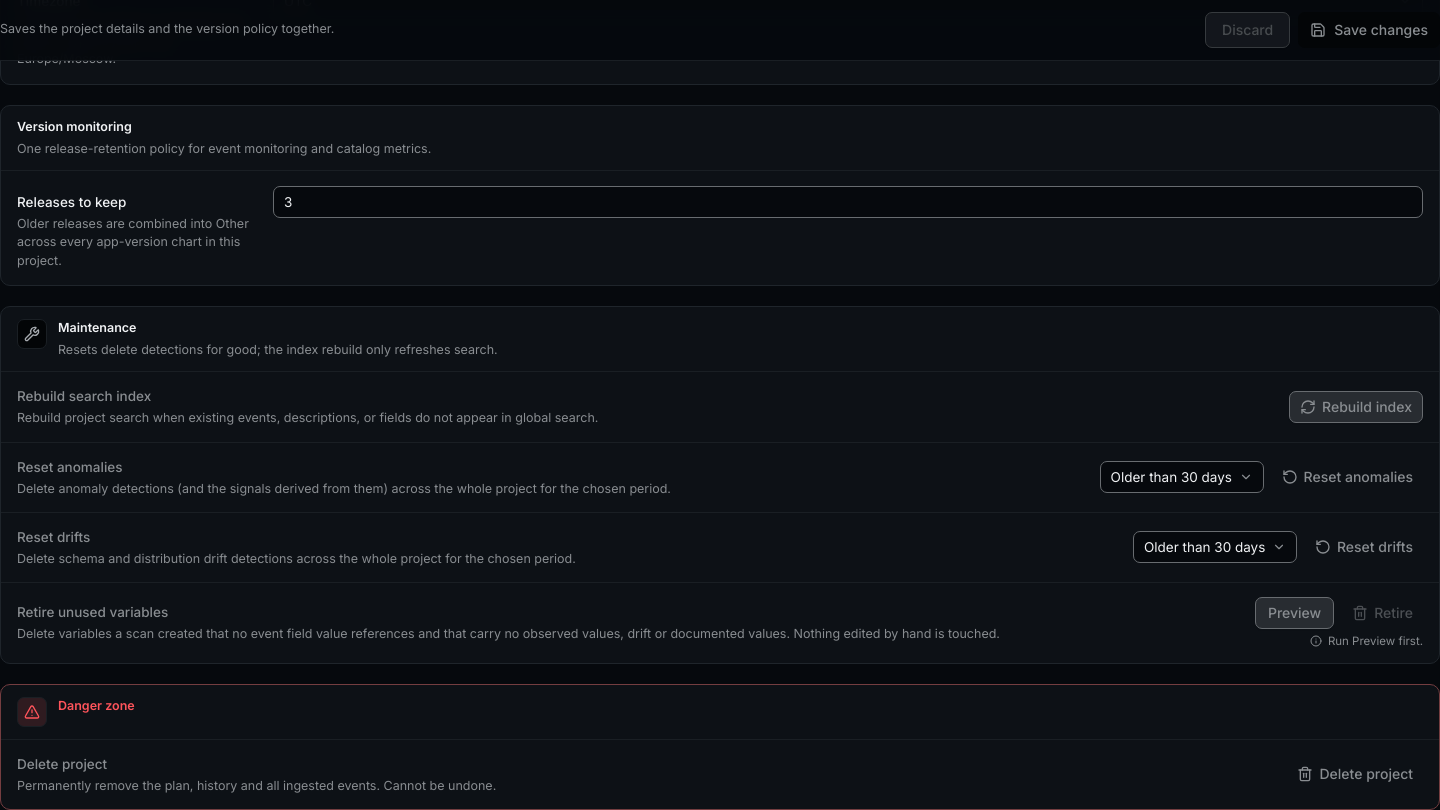
Test case: ProjectGeneralSection — #207 › asks for the slug before deleting and shows a refusal in place (WS-9, WS-10)
(page scrolled)
Click the button "Delete project" at (1355, 774), box [1288, 758, 1423, 790]
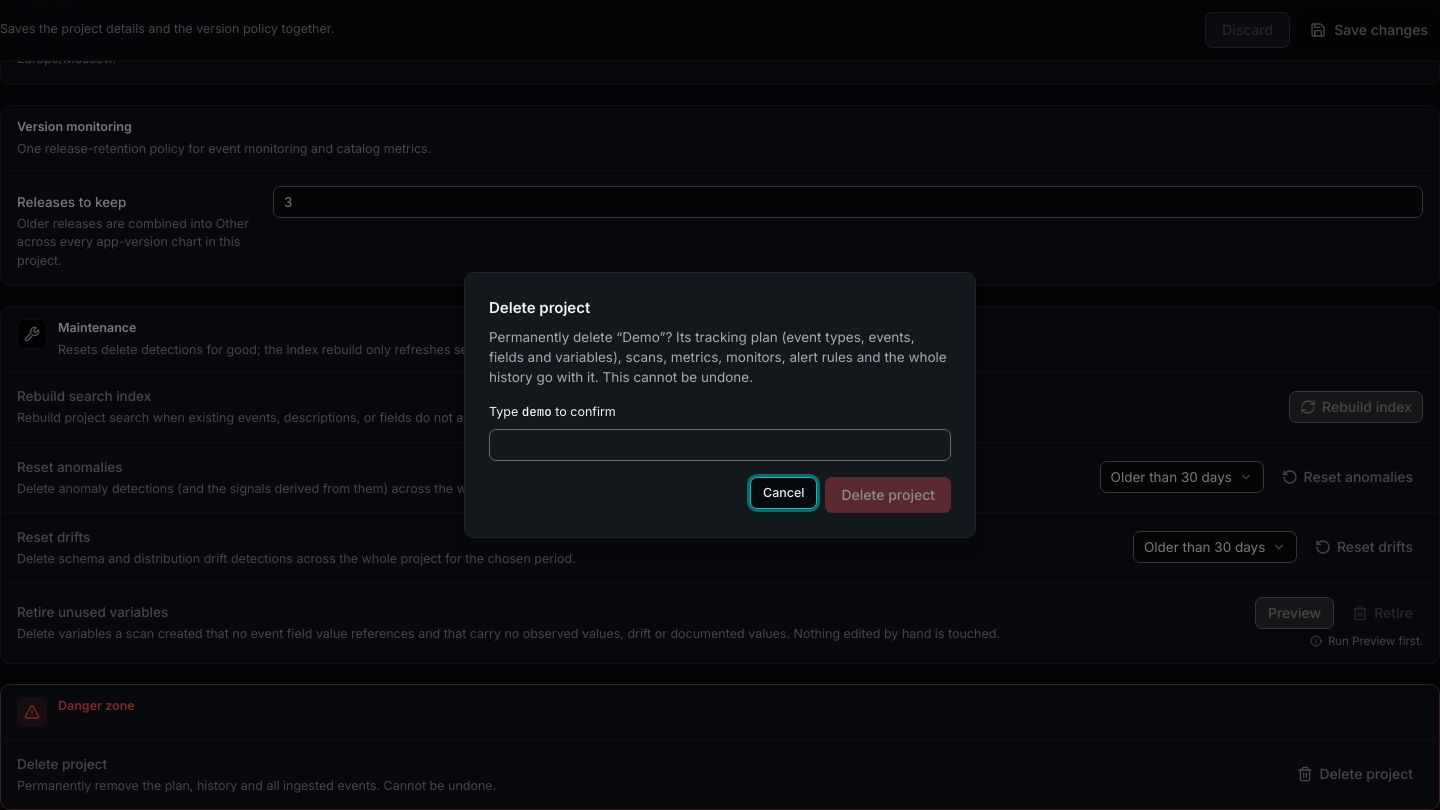
Expected: the button "Delete project" is disabled, [826, 477, 951, 513]
Type "demo" into the field labelled "Type demo to confirm" at (720, 445), box [489, 429, 951, 461]
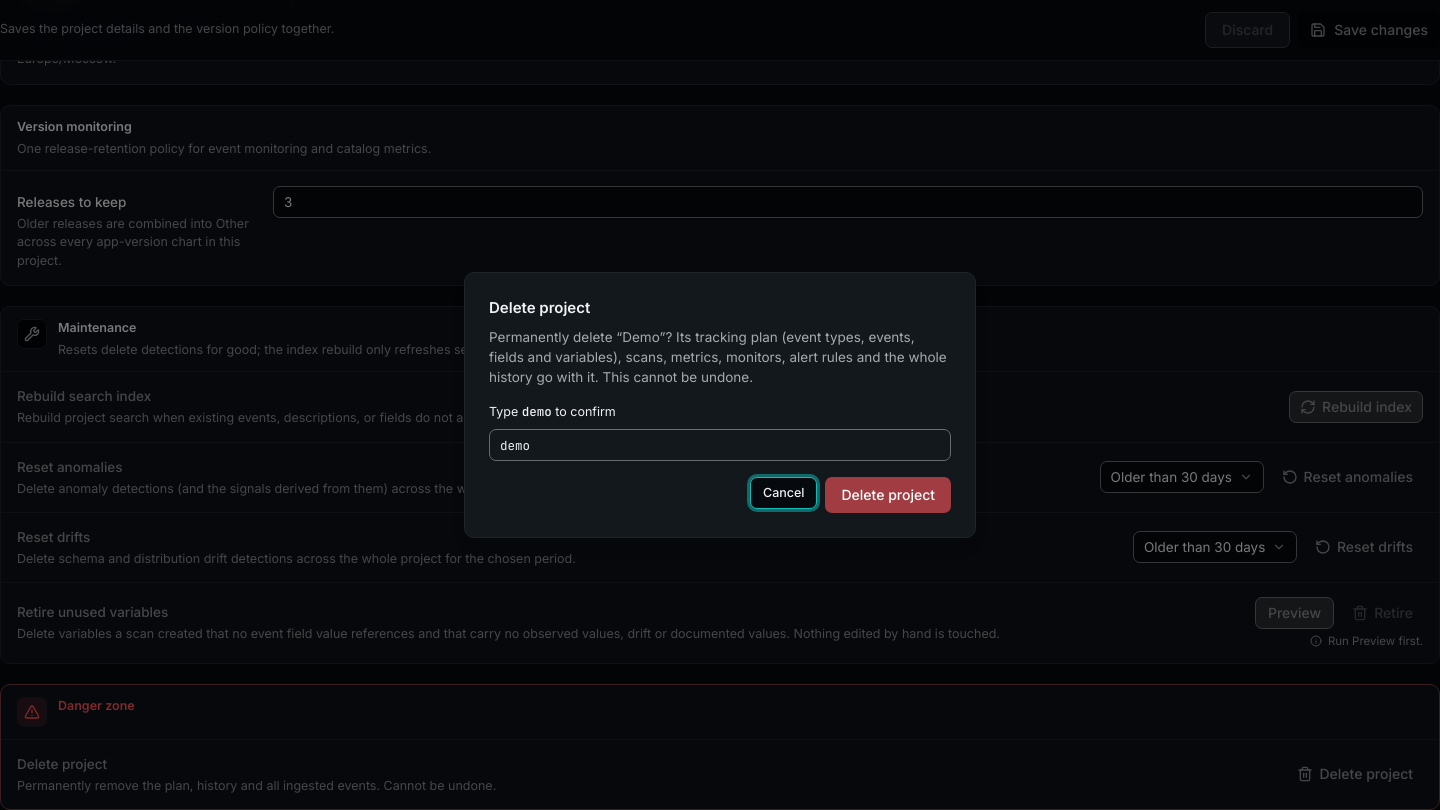
Click the button "Delete project" at (888, 495), box [826, 477, 951, 513]
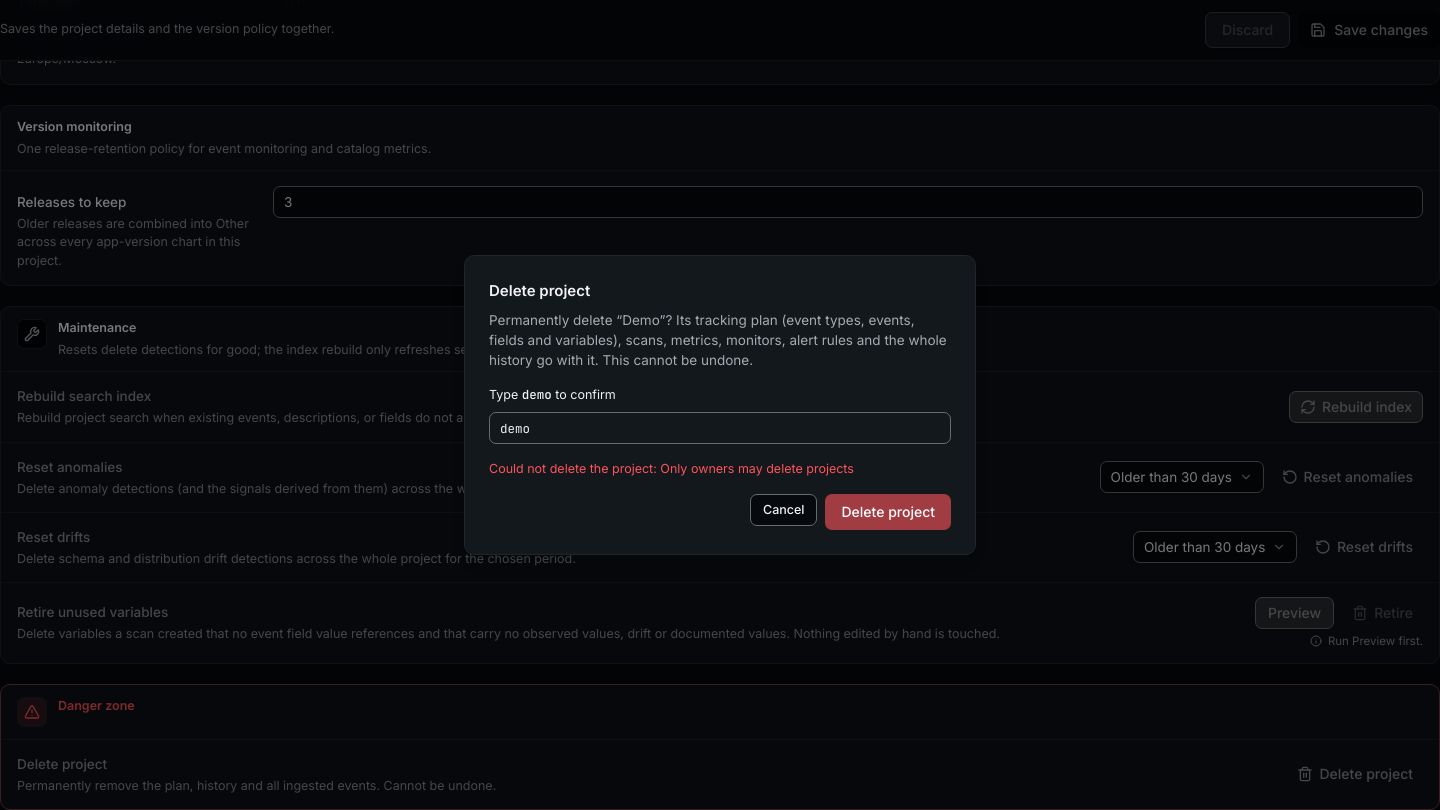
Expected: the message shows "Could not delete the project", [489, 461, 653, 476]
